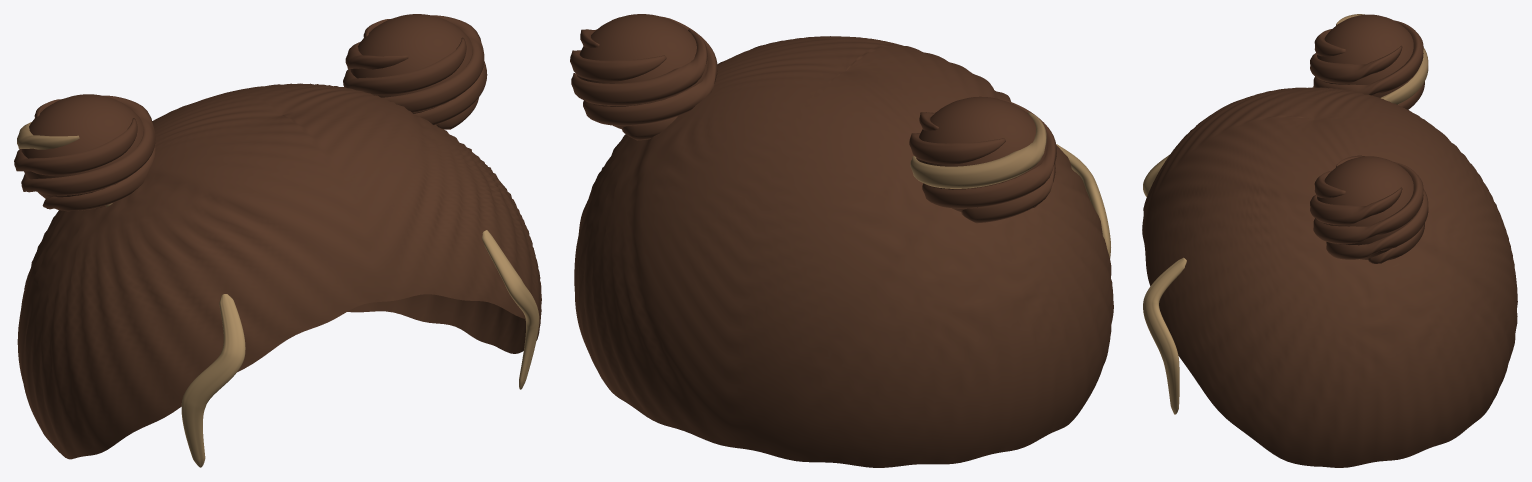
The model's file is Highlights-947d08673b74251-hair.glb.
3 views of the same model, side by side, from view 1: azimuth 30°, elevation 25°; view 2: azimuth 150°, elevation 25°; view 3: azimuth 270°, elevation 25° (orthographic). The views are drawn at different scales.
Parts seen in each view (by area): view 1: 226 hair / Hair / chestnut226.001; view 2: 226 hair / Hair / chestnut226.001; view 3: 226 hair / Hair / chestnut226.001.
Part boxes in pixels (bbox=[...]): 226 hair / Hair / chestnut226.001: bbox=[14, 14, 541, 467]; 226 hair / Hair / chestnut226.001: bbox=[570, 14, 1113, 467]; 226 hair / Hair / chestnut226.001: bbox=[1142, 14, 1517, 467].
Size of the model in its own units: 0.9988 by 0.6556 by 0.7845.
